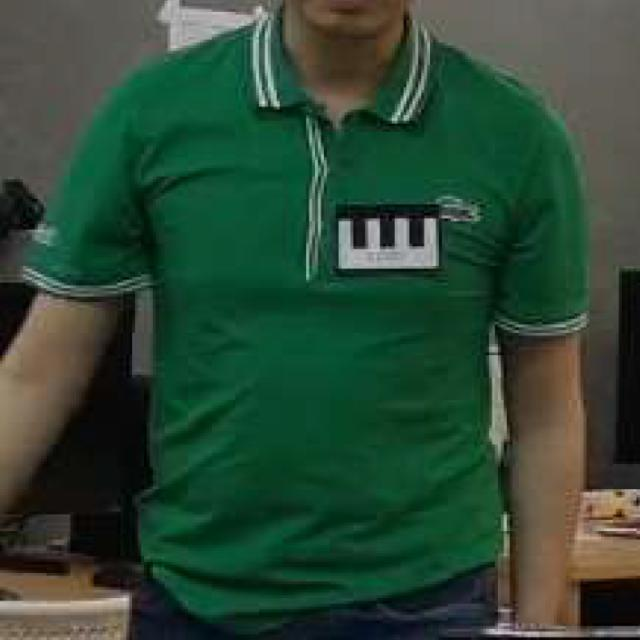tag: (337, 207, 442, 270)
